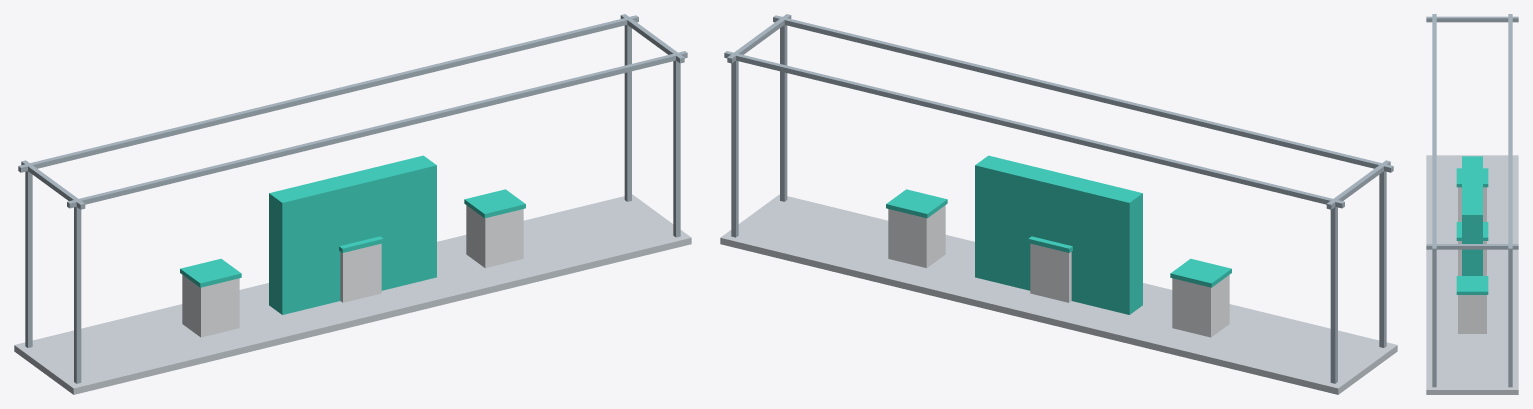
The picture shows the model from 3 angles, left to right: view 1: azimuth 30°, elevation 25°; view 2: azimuth 150°, elevation 25°; view 3: azimuth 270°, elevation 25°; orthographic projection. The views are drawn at different scales.
Visible parts, largest first — view 1: Exhibition Booth Concept; view 2: Exhibition Booth Concept; view 3: Exhibition Booth Concept.
Part boxes in pixels (bbox=[...]): Exhibition Booth Concept: bbox=[14, 14, 691, 394]; Exhibition Booth Concept: bbox=[720, 14, 1397, 394]; Exhibition Booth Concept: bbox=[1426, 14, 1518, 394].
Size of the model in its own units: 12 by 3.49 by 2.
